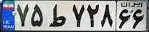character: (48, 2, 67, 30), (14, 2, 31, 30), (70, 2, 85, 30), (100, 1, 115, 29), (30, 2, 45, 29), (85, 2, 100, 29), (132, 7, 146, 30), (118, 7, 131, 31)
